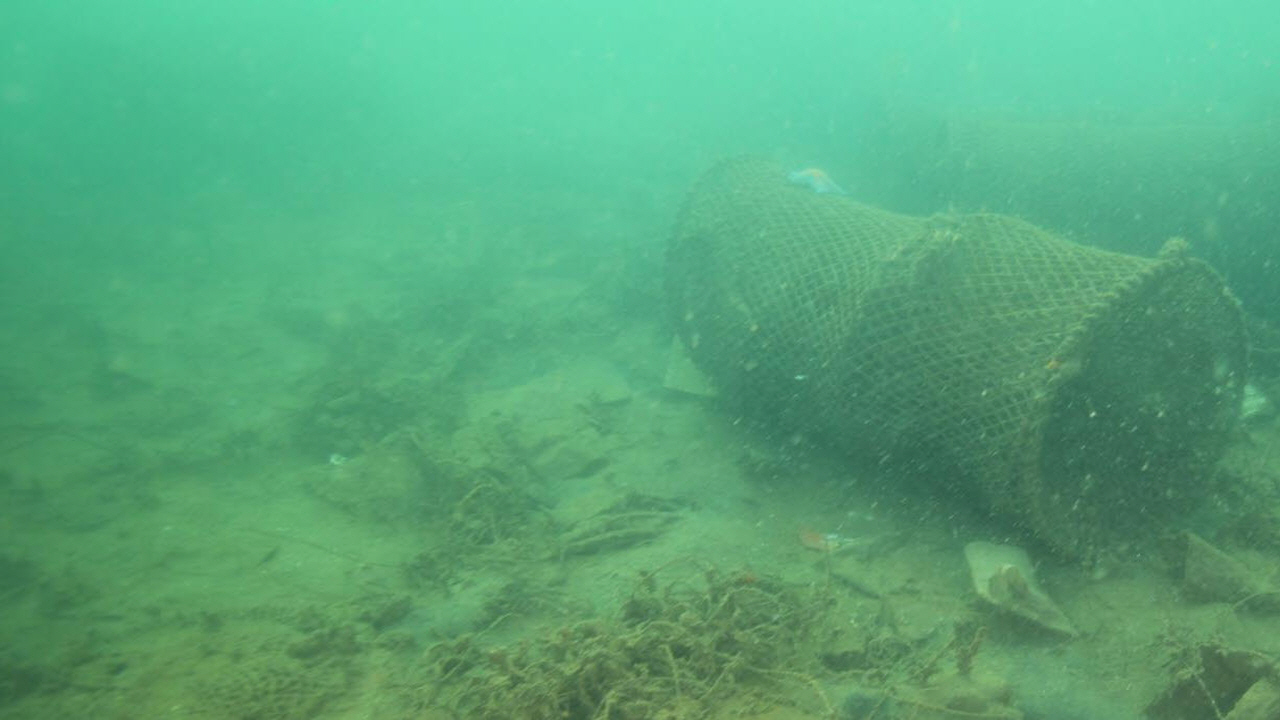spring fish trap: (664, 154, 1251, 564)
